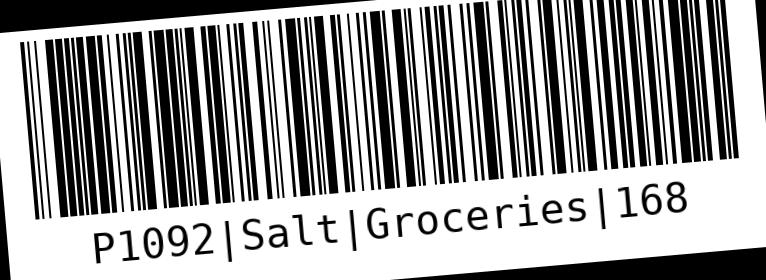milk: (11, 0, 763, 275)
